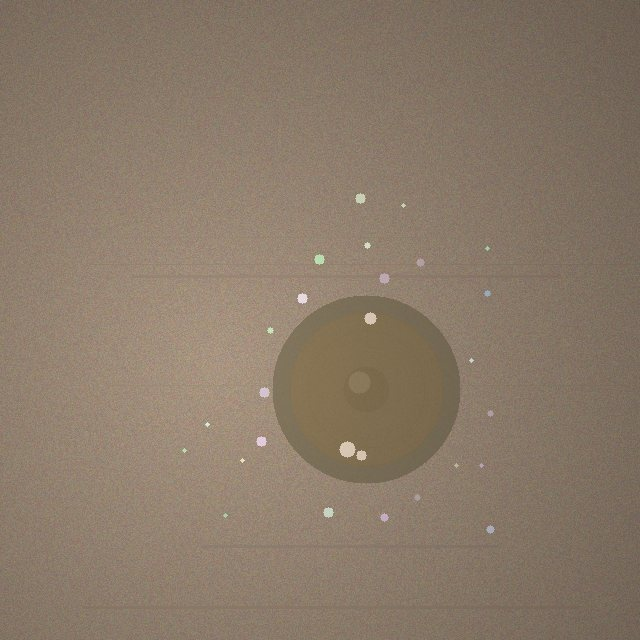overburn: (272, 295, 460, 483)
